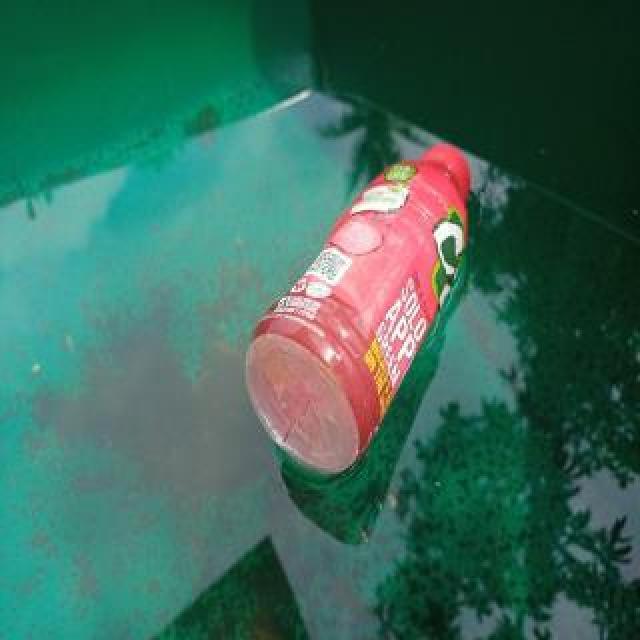bottle: (238, 135, 474, 475)
